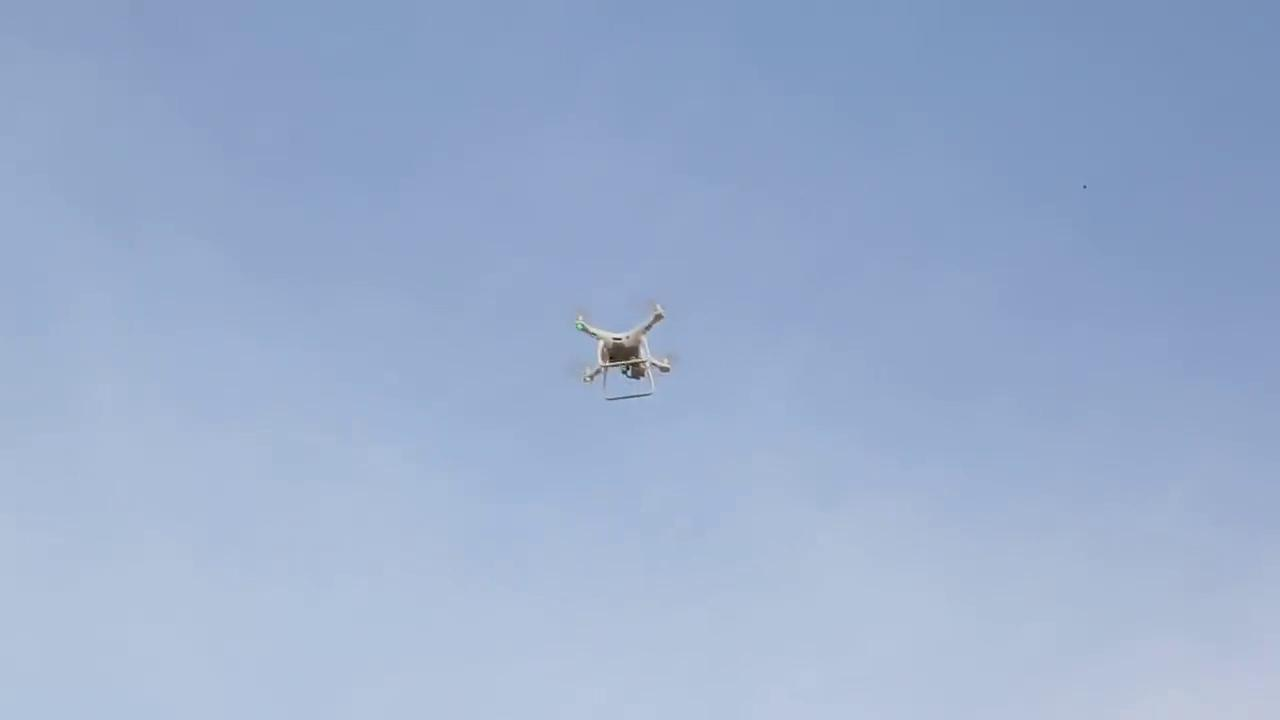drone: (550, 298, 684, 414)
